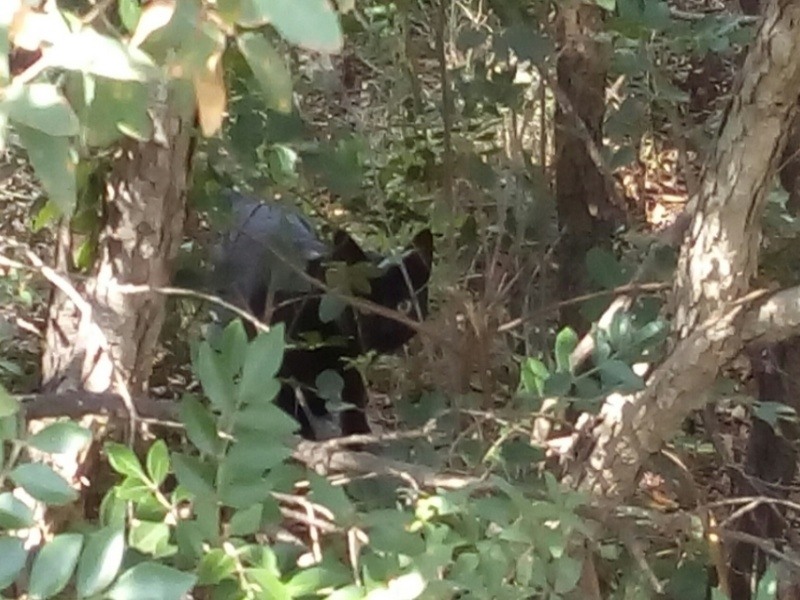cat: (201, 201, 432, 439)
